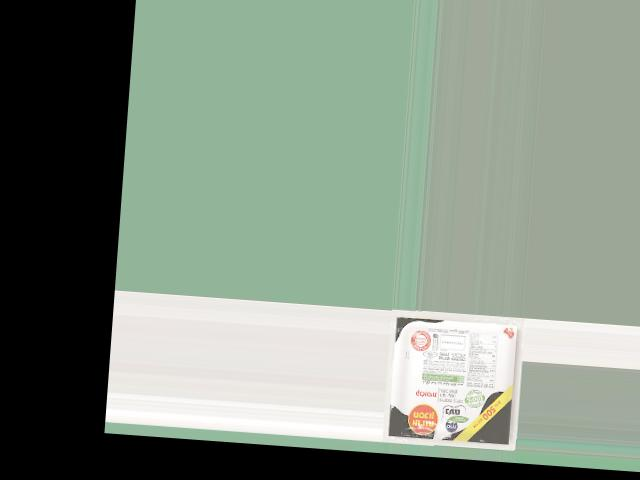cheese: (386, 320, 523, 442)
